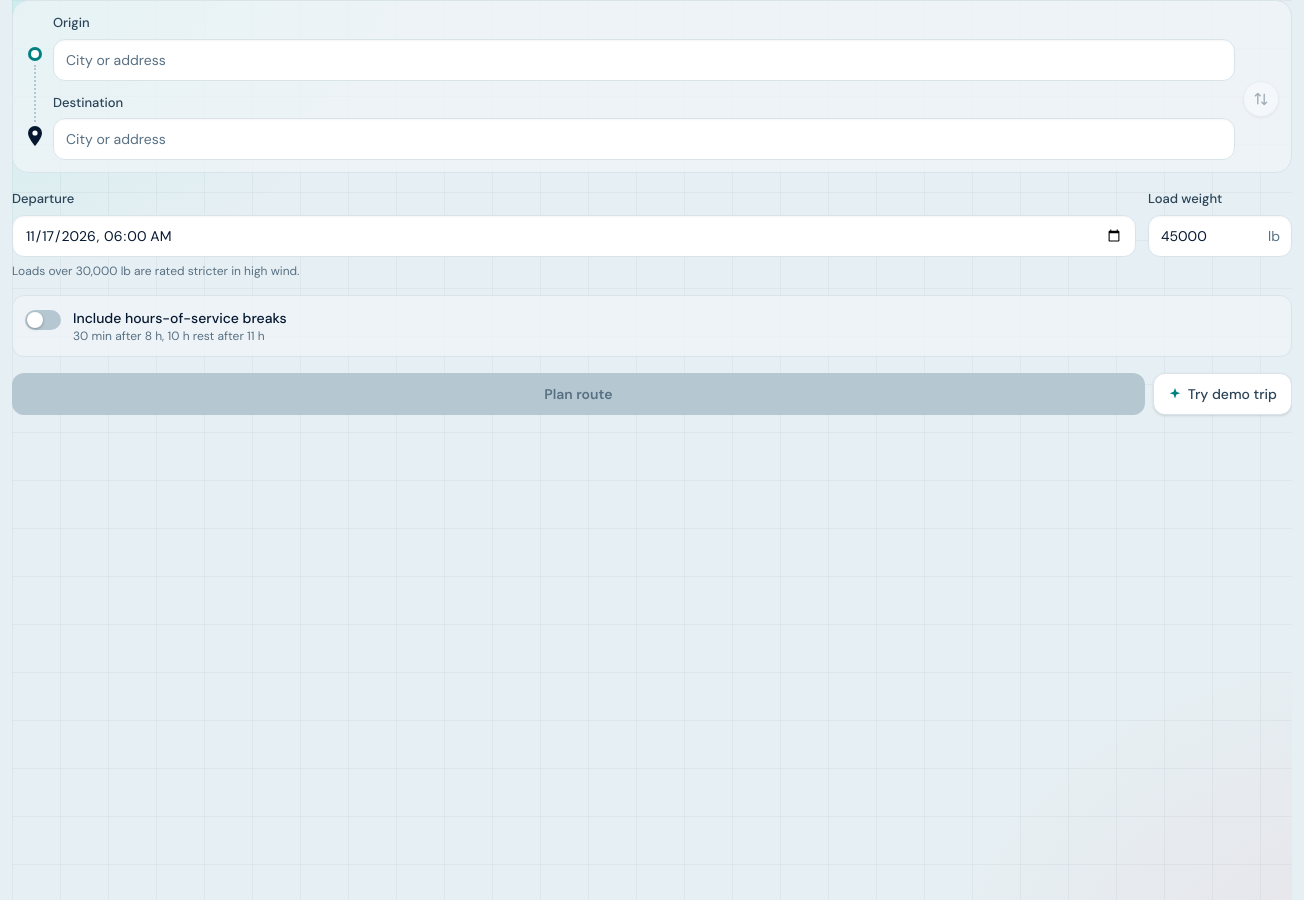
Test: Enter takes the highlighted top suggestion, never a stale one
Later steps or results of the test are not shown.
In the dropdown labelled "Origin": (644, 60) [53,38,1235,80], type "Den"
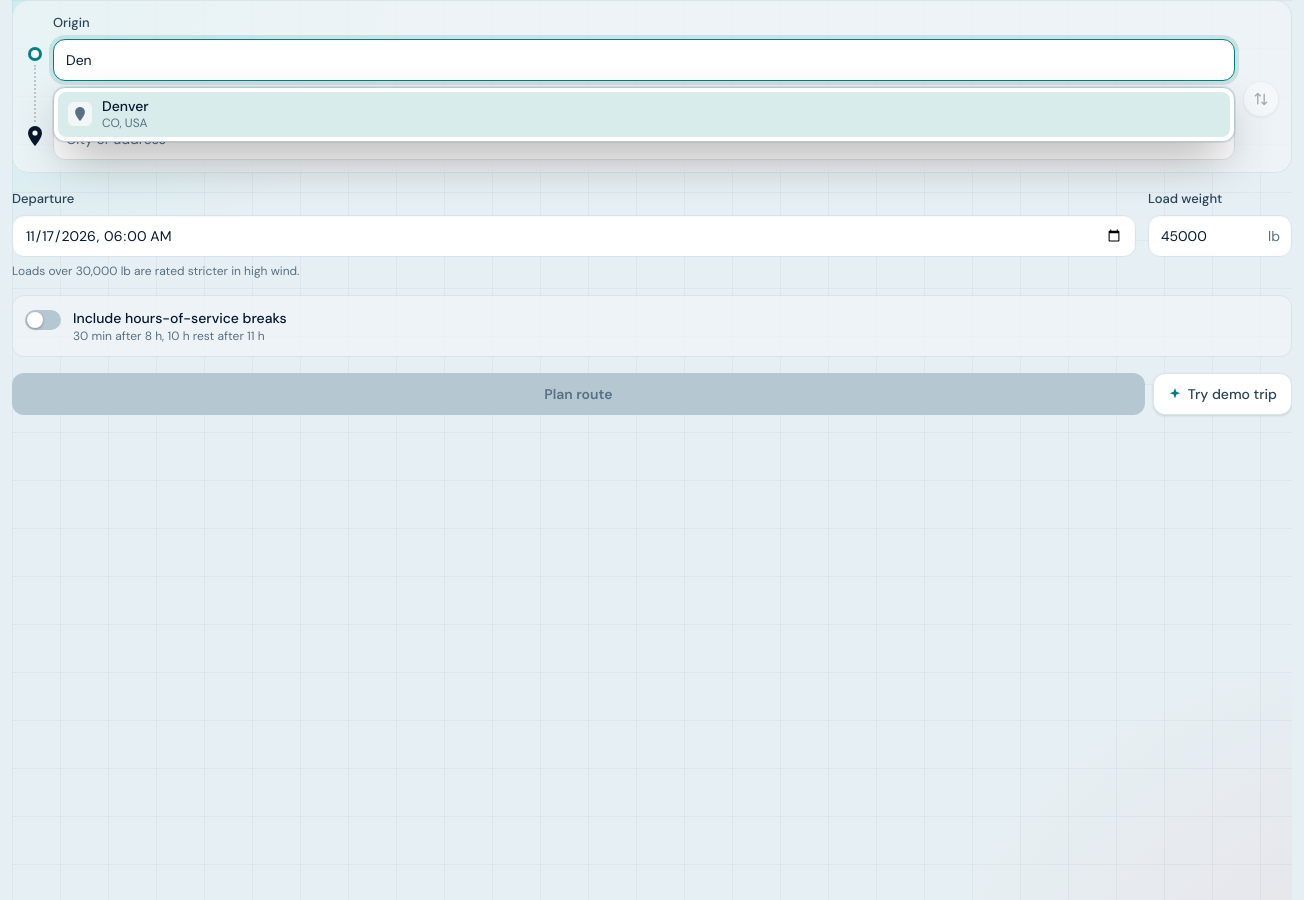
Note: Typing again makes the list stale until the new query answers: Enter waits.
In the dropdown labelled "Origin": (644, 60) [53,38,1235,80], type "v"
Then press Enter
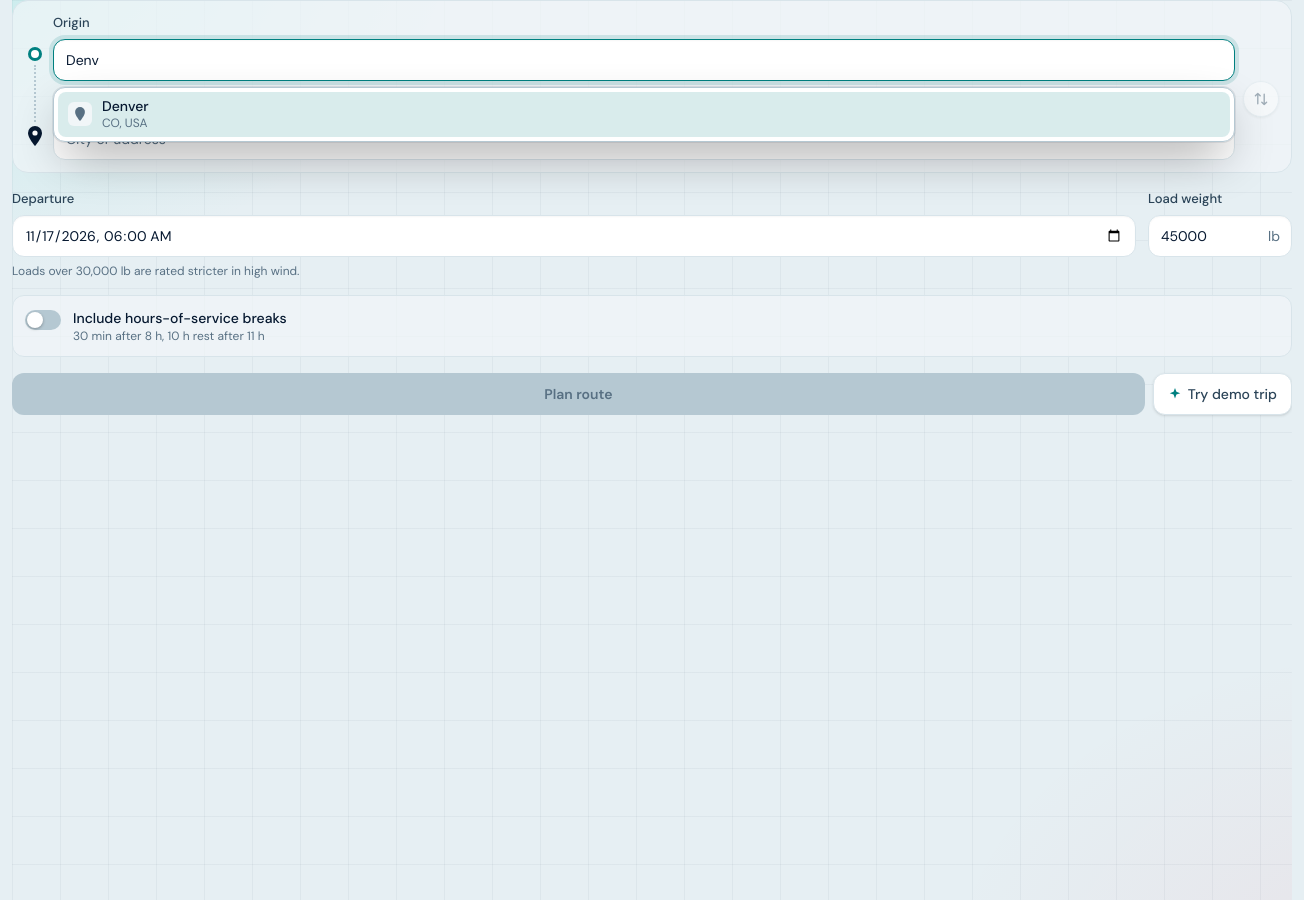
Press Enter
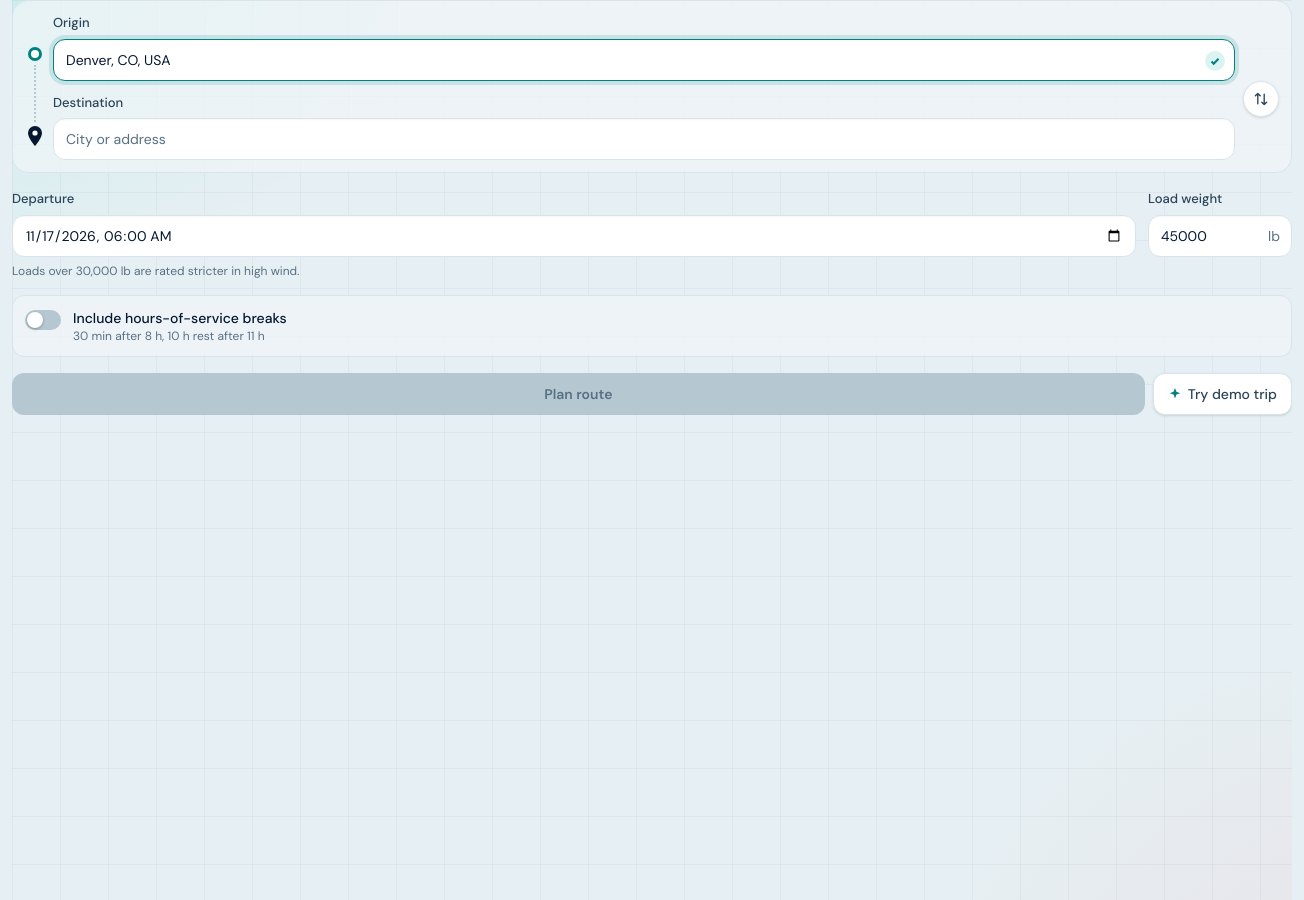
Expected: the dropdown labelled "Origin" holds "Denver, CO, USA", [53,38,1235,80]
Expected: the option is gone
